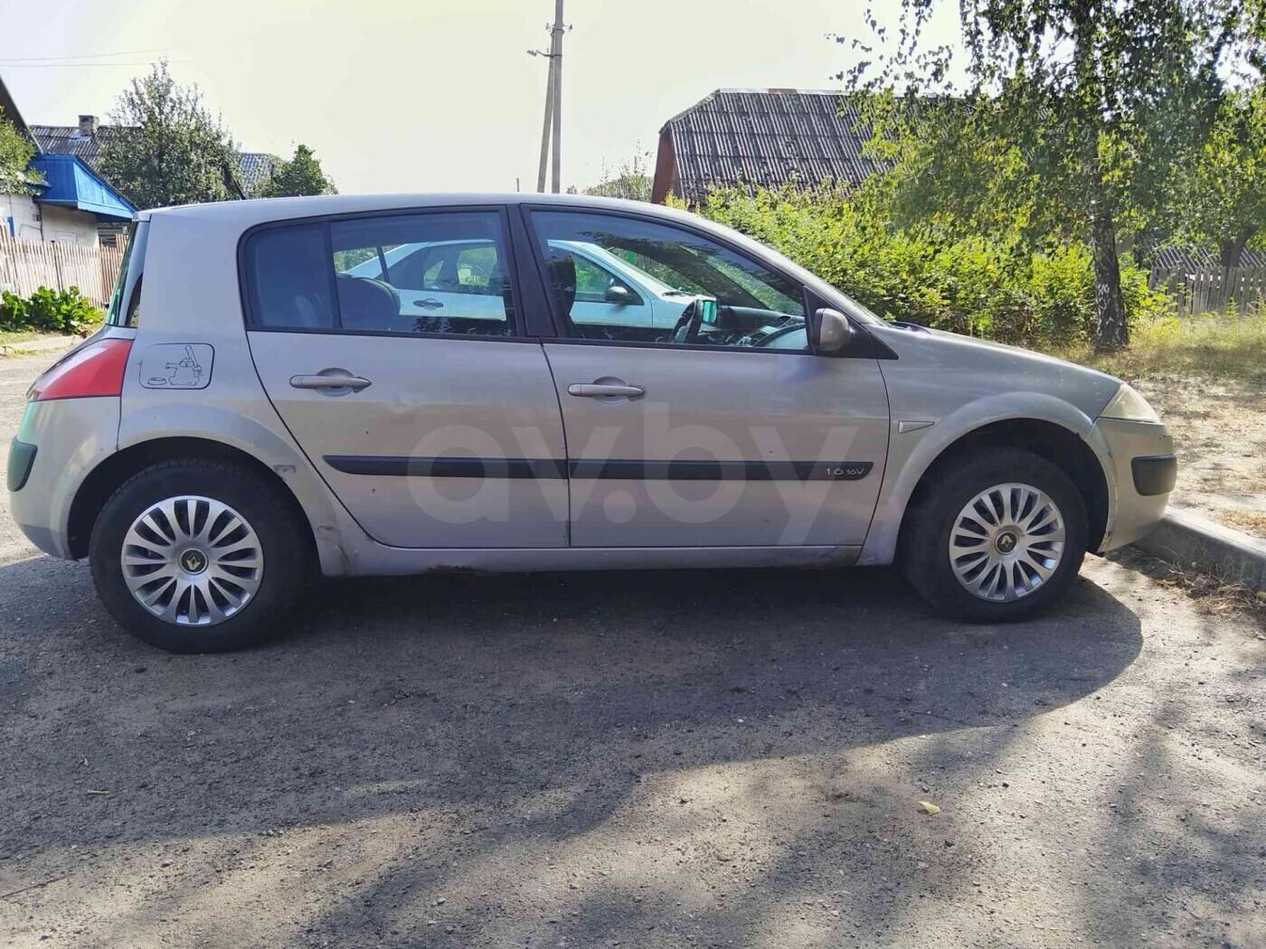Megane_2002-2006: (0, 192, 1182, 634)
